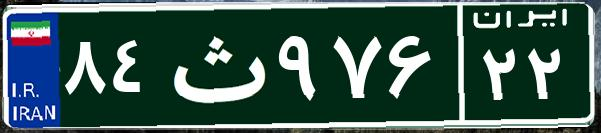2: (475, 38, 525, 113), (525, 38, 570, 115)
4: (110, 28, 158, 105)
6: (385, 28, 445, 110)
7: (330, 28, 385, 110)
8: (57, 26, 110, 107)
9: (273, 28, 330, 110)
ث: (158, 15, 273, 115)
